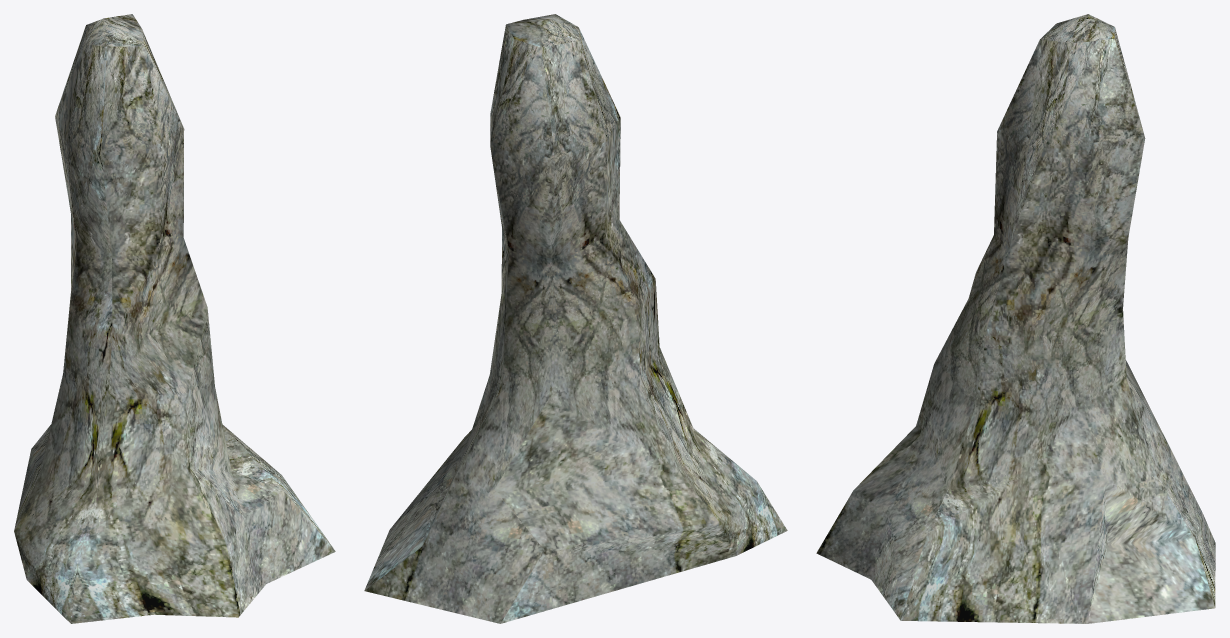
File: general_obj_bigstone01.fbx
3 renders of one model, left to right at view 1: azimuth 30°, elevation 25°; view 2: azimuth 150°, elevation 25°; view 3: azimuth 270°, elevation 25°, orthographic. The views are drawn at different scales.
Visible parts, largest first — view 1: Sphere01; view 2: Sphere01; view 3: Sphere01.
Boxes of the visible parts, x1,y1,x2,y2 form: Sphere01: (14,14,335,623); Sphere01: (364,14,787,623); Sphere01: (816,14,1215,623).
Size of the model in its own units: 19.08 by 33.9 by 22.83.
